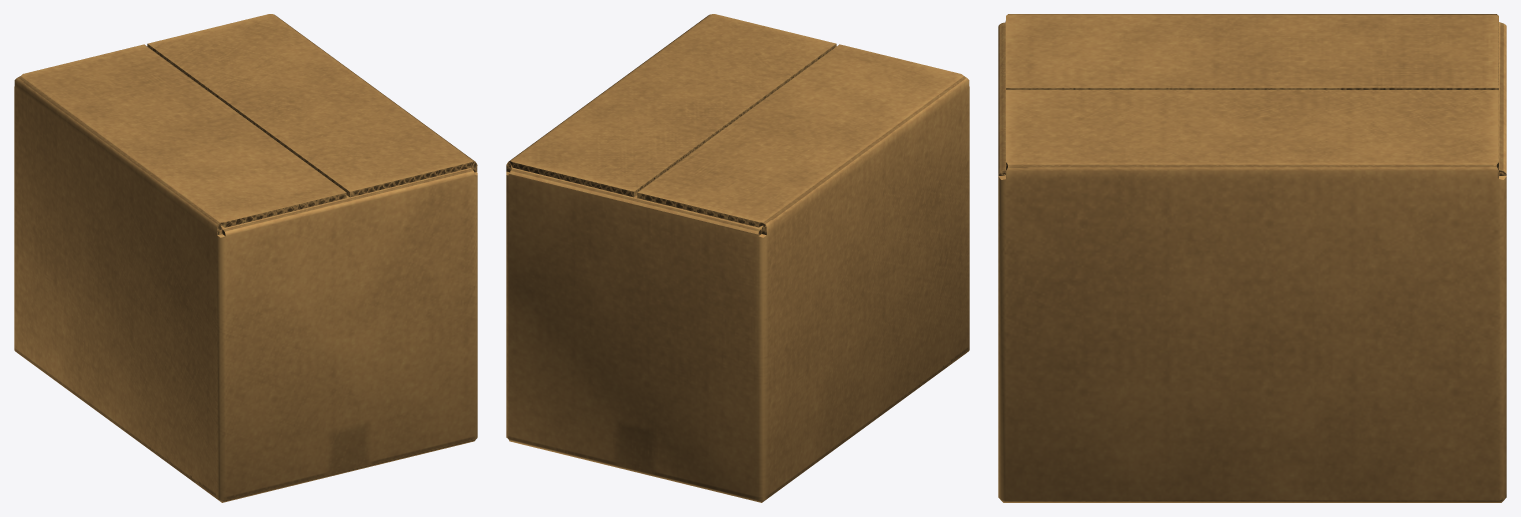
File: CardBoard_Closed.fbx
The picture shows the model from 3 angles, left to right: view 1: azimuth 30°, elevation 25°; view 2: azimuth 150°, elevation 25°; view 3: azimuth 270°, elevation 25°; orthographic projection. The views are drawn at different scales.
Visible parts, largest first — view 1: CardBoard_Closed; view 2: CardBoard_Closed; view 3: CardBoard_Closed.
Boxes of the visible parts, x1,y1,x2,y2 form: CardBoard_Closed: [14, 14, 477, 502]; CardBoard_Closed: [506, 14, 969, 502]; CardBoard_Closed: [998, 14, 1506, 502].
Bounding box in the file's own units: 0.3603 × 0.3687 × 0.5003.
